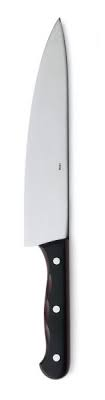knife: (22, 14, 72, 381)
